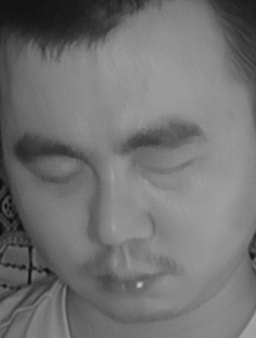blink: (140, 151, 195, 188), (30, 157, 82, 194)
mouth: (88, 255, 169, 304)
